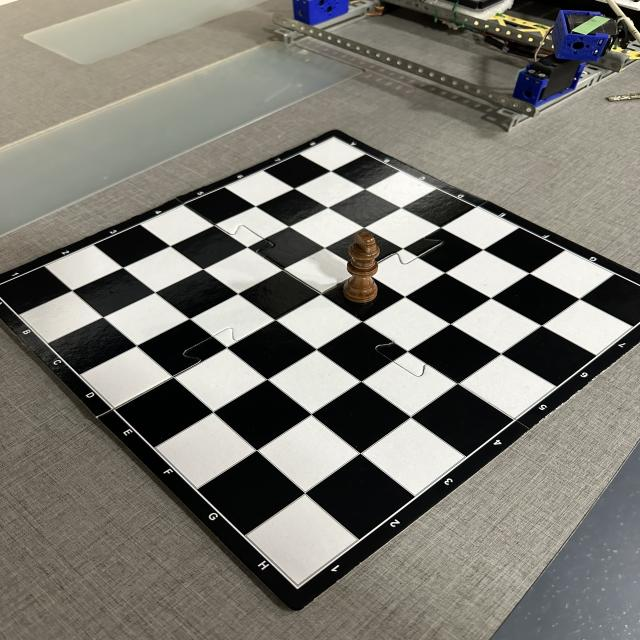Black-King: (342, 231, 381, 304)
